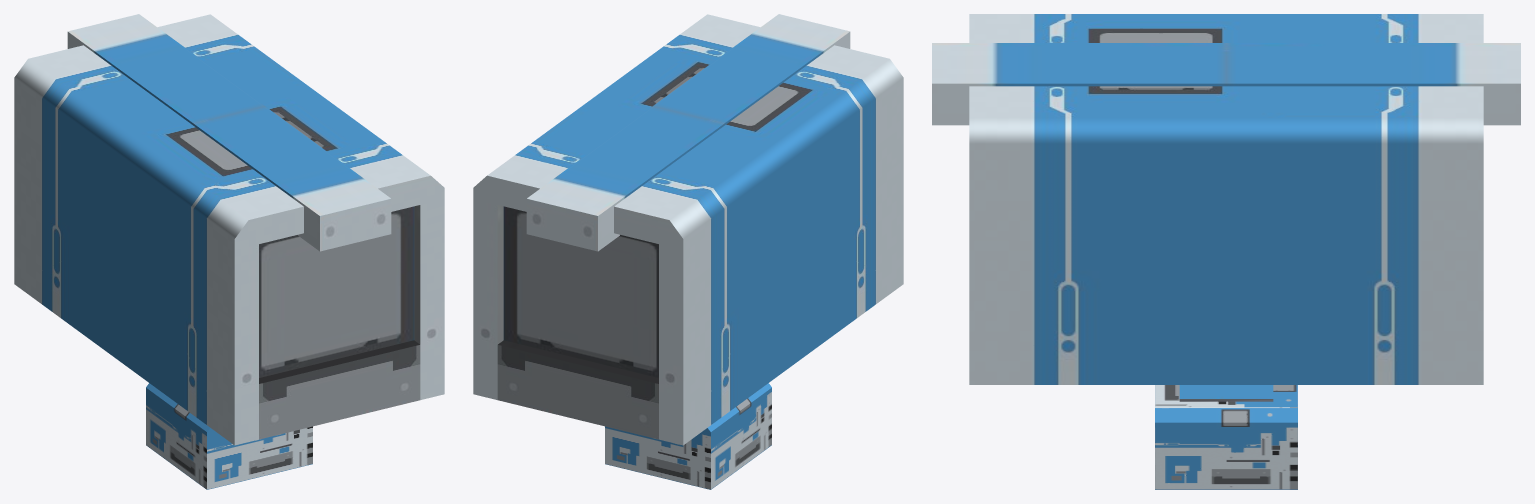
3 views of the same model, side by side, from view 1: azimuth 30°, elevation 25°; view 2: azimuth 150°, elevation 25°; view 3: azimuth 270°, elevation 25° (orthographic). The views are drawn at different scales.
Parts seen in each view (by area): view 1: inserter-3; view 2: inserter-3; view 3: inserter-3.
Part boxes in pixels (x1,y1,x2,y2): inserter-3: (14, 14, 444, 489); inserter-3: (473, 14, 903, 489); inserter-3: (932, 14, 1520, 489).
Size of the model in its own units: 0.99 by 1.53 by 2.06.
Materials: 2 (2 with a texture image).
